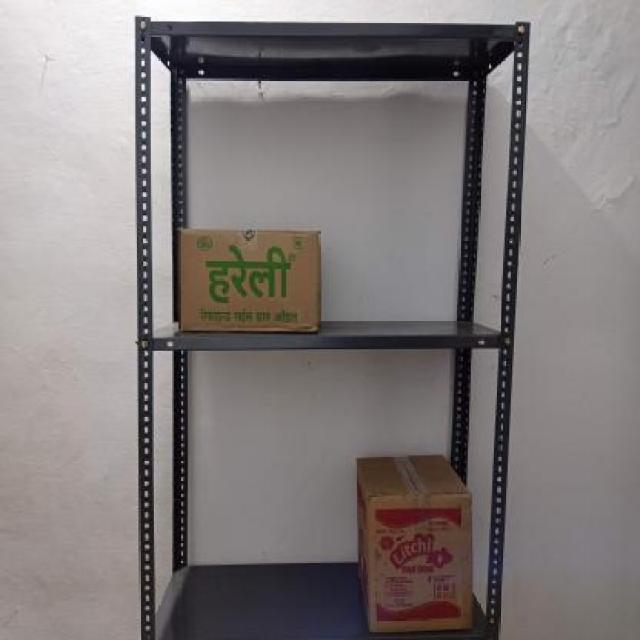box: (178, 227, 319, 336), (370, 493, 472, 630)
